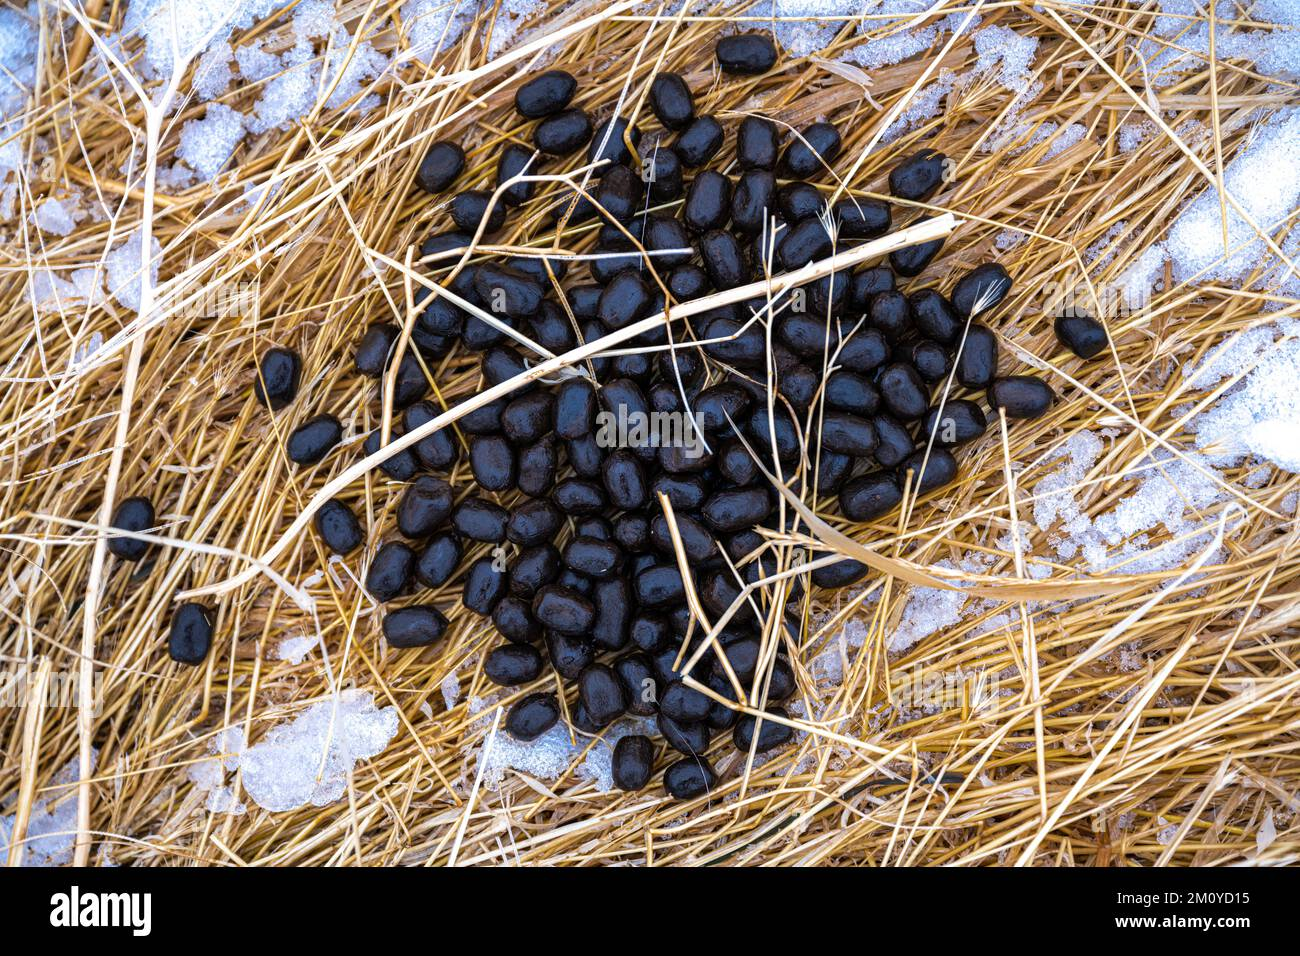Elk: (359, 143, 784, 725), (775, 156, 976, 460)
